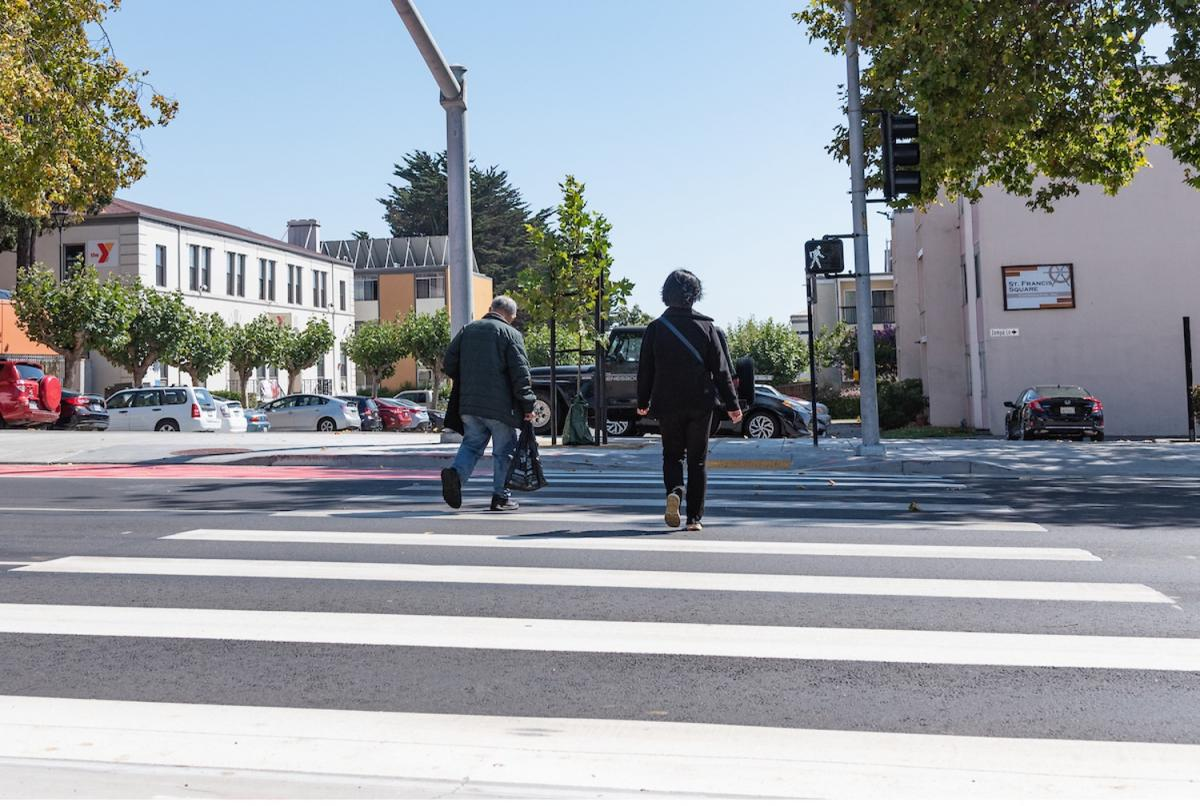Crosswalk: (29, 470, 1200, 806)
